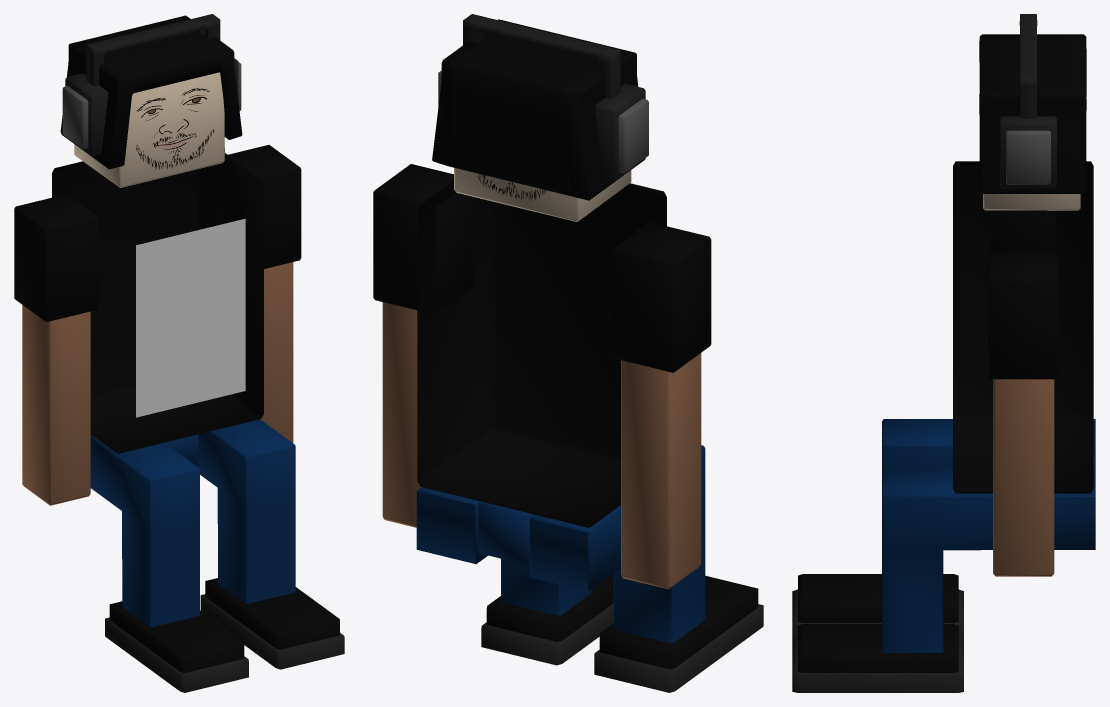
The model's file is AndrijanSitting.FBX.
The picture shows the model from 3 angles, left to right: view 1: azimuth 30°, elevation 25°; view 2: azimuth 150°, elevation 25°; view 3: azimuth 270°, elevation 25°; orthographic projection. The views are drawn at different scales.
Visible parts, largest first — view 1: Ass, Body, Head, RArm, LArm; view 2: Body, Ass, Head, RArm, LArm; view 3: Ass, Body, LArm, Head, RArm.
Boxes of the visible parts, x1,y1,x2,y2 form: Ass: (90, 419, 344, 692); Body: (52, 153, 263, 453); Head: (60, 14, 242, 187); RArm: (14, 194, 98, 505); LArm: (216, 145, 301, 442); Body: (417, 180, 666, 527); Ass: (416, 445, 763, 692); Head: (432, 14, 648, 221); RArm: (611, 222, 711, 589); LArm: (373, 164, 472, 527); Ass: (792, 419, 1095, 692); Body: (953, 161, 1093, 493); LArm: (988, 252, 1057, 576); Head: (979, 14, 1086, 210); RArm: (990, 210, 1056, 252).
Bounding box in the file's own units: 133 × 279 × 127.
